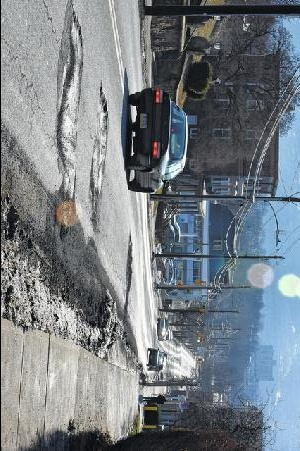pothole: (56, 2, 86, 171), (88, 81, 110, 198), (125, 231, 134, 296)
